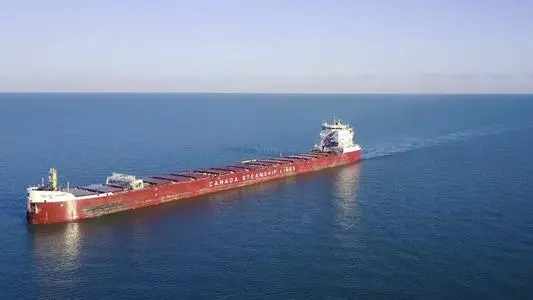Cargoship: (24, 114, 365, 228)
